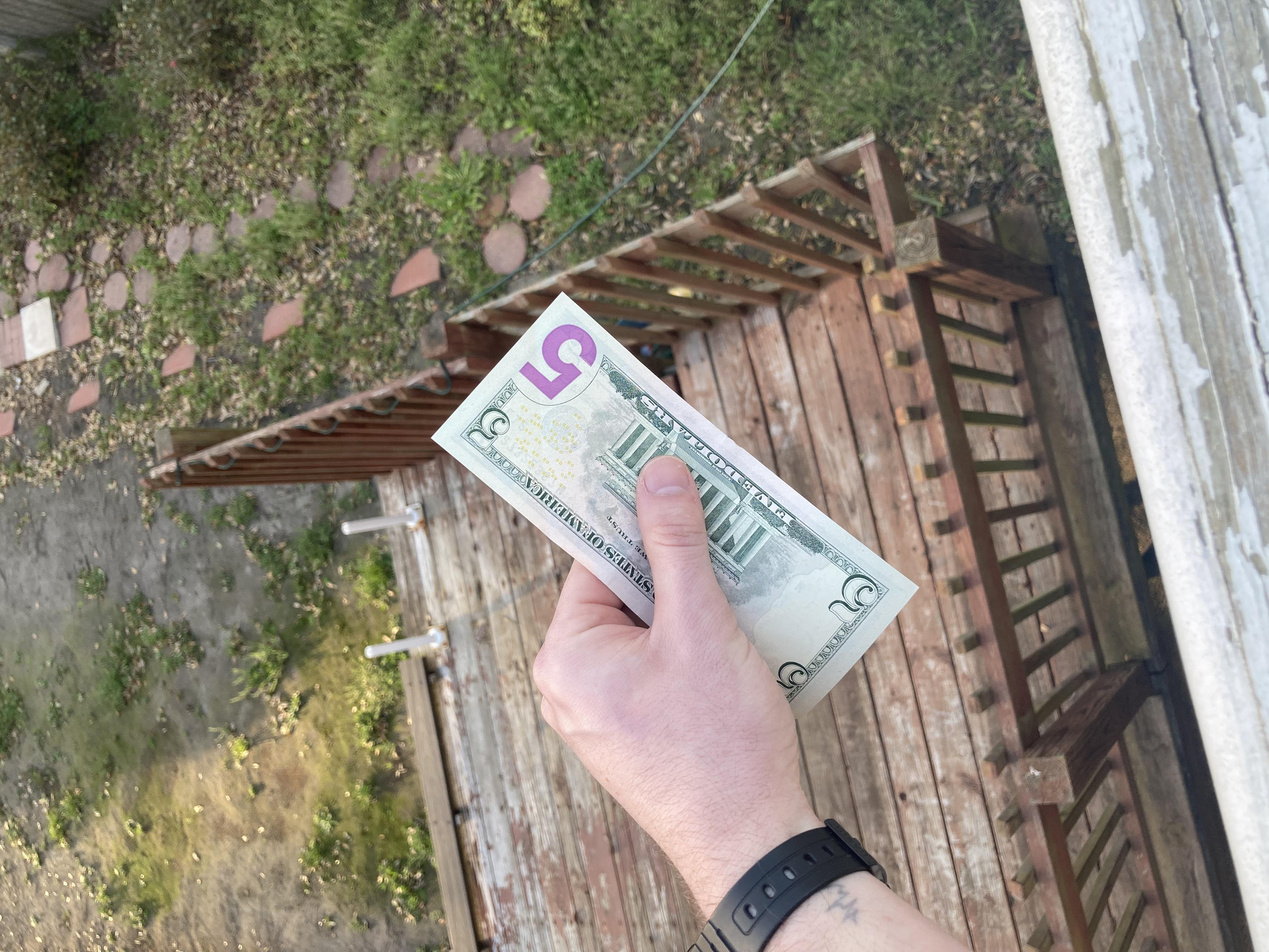five-back: (288, 324, 878, 692)
